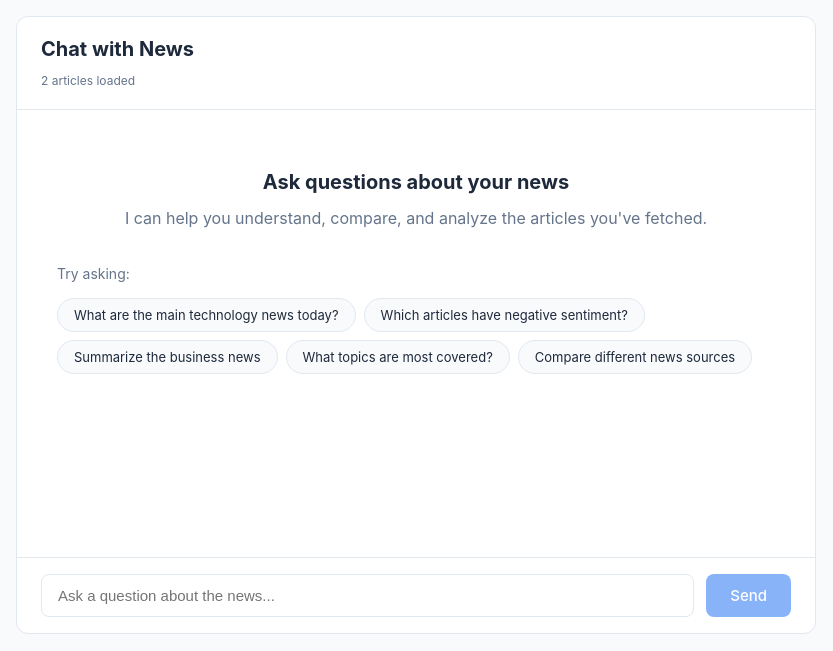
it: Chat › renders streamed chunks directly without invoking the fallback
The width and height of the screenshot is (833, 651).
Type "Tell me" into the field labelled "Ask a question about the news" at (368, 596), box top-left (41, 574), bottom-right (694, 617)
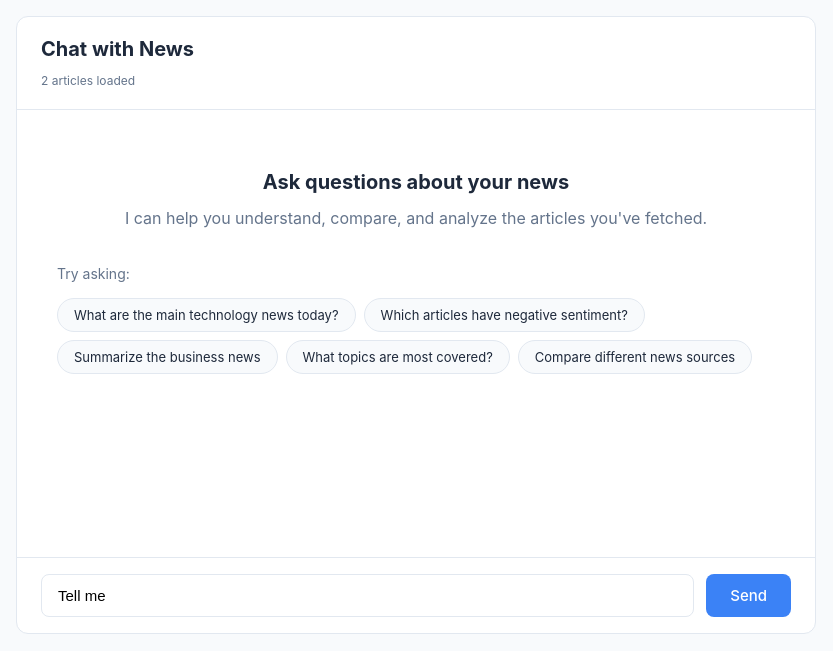
Submit the form named "Ask a question about the news", box top-left (17, 557), bottom-right (815, 633)
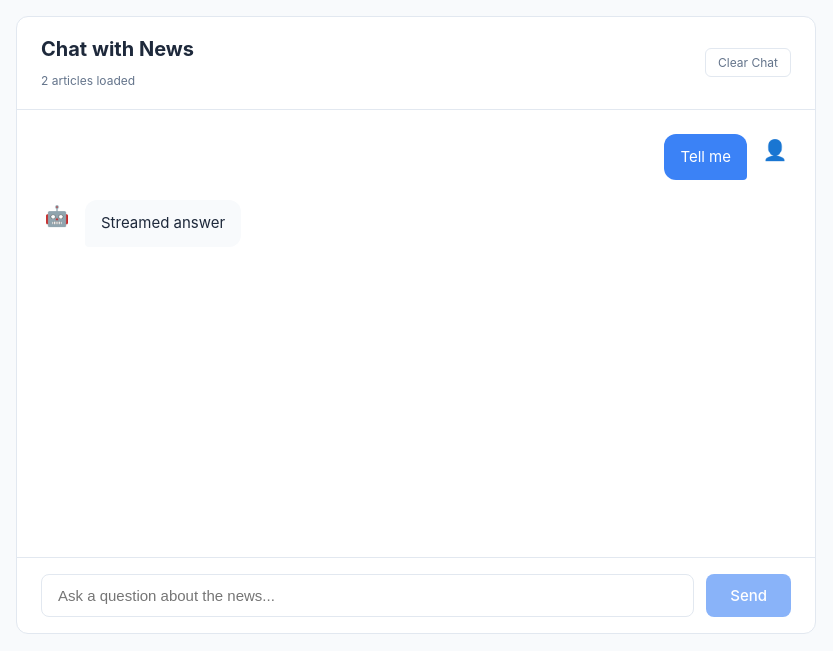
Now the text "Streamed answer" is shown, box top-left (85, 200), bottom-right (241, 247)
